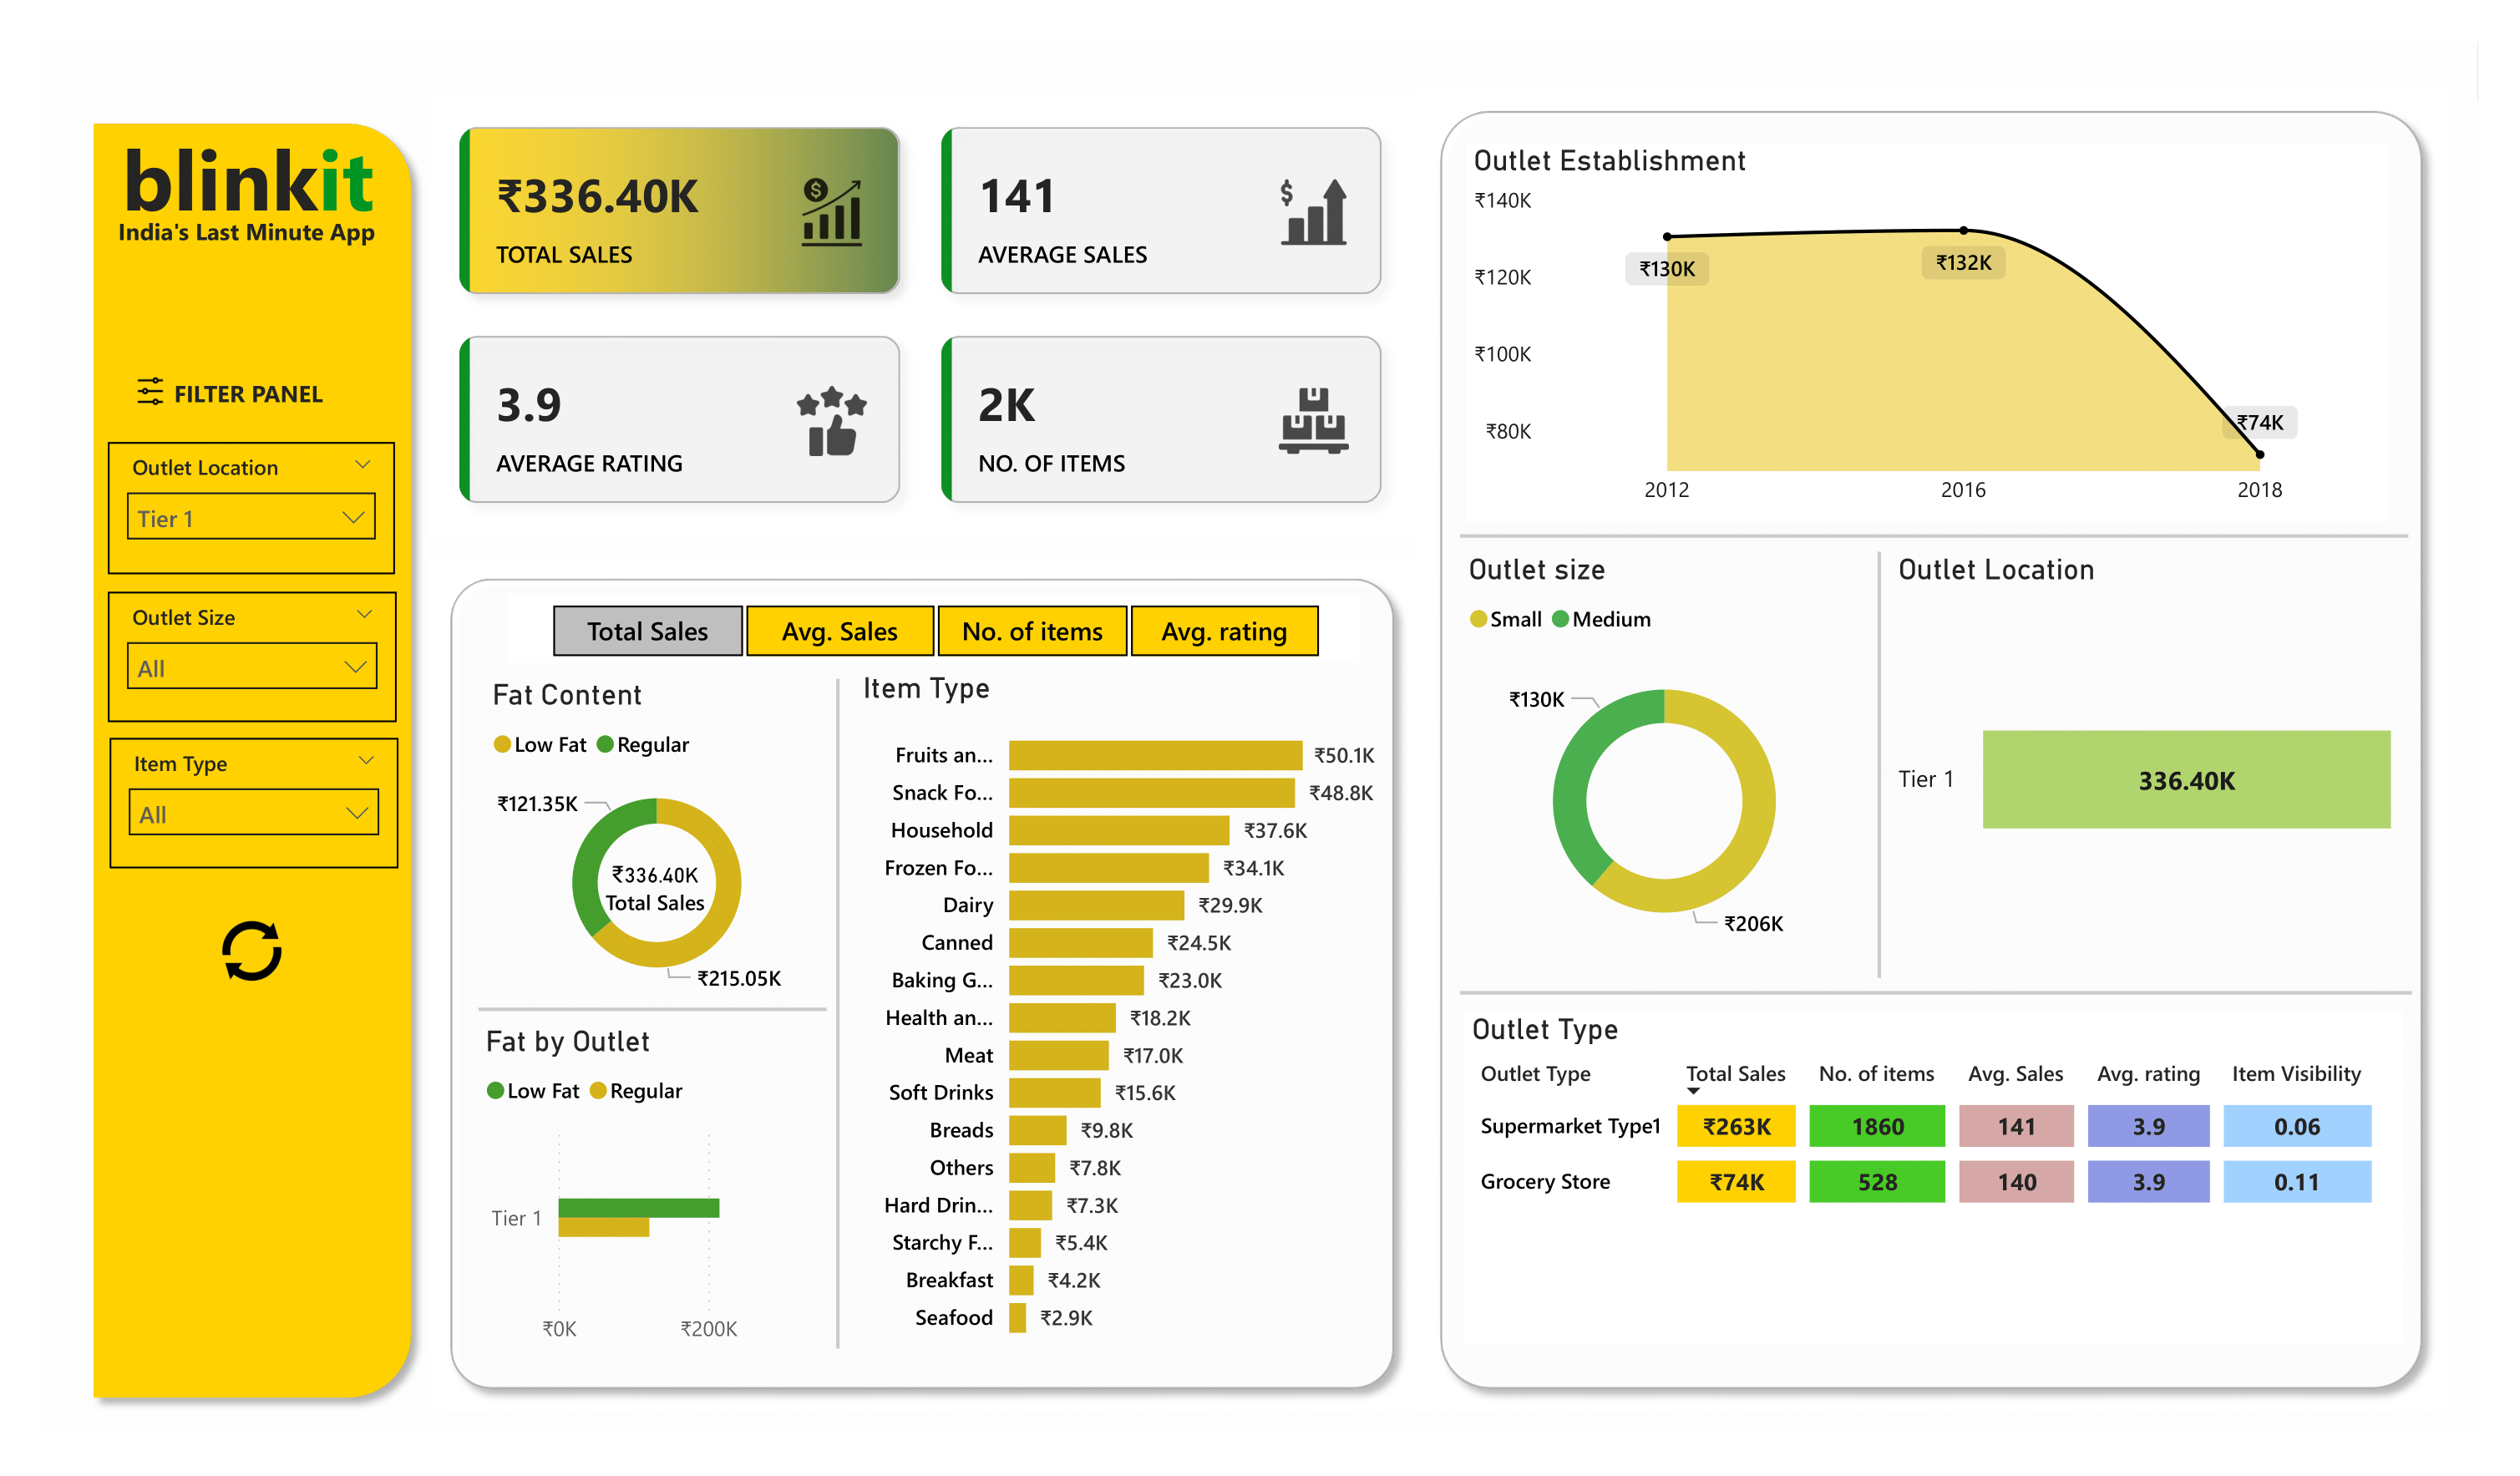

The page's visual inventory and layout, read from the dashboard file:
{"tool":"powerbi","page":{"name":"Page 1","canvas":[1400,800],"ordinal":0},"visuals":[{"type":"shape","box":[20.9,38.2,200,750],"z":0},{"type":"textbox","box":[39,95,170,28],"z":1000},{"type":"textbox","box":[40.8,40,165,75],"z":2000},{"type":"pivotTable","fields":{"Values":["BlinkIT Grocery Data.Total Sales","BlinkIT Grocery Data.No. of items","BlinkIT Grocery Data.Avg. Sales","BlinkIT Grocery Data.Avg. rating","Sum(BlinkIT Grocery Data.Item Visibility)"],"Rows":["BlinkIT Grocery Data.Outlet Type"]},"box":[817.5,497.5,545,250],"z":3000},{"type":"shape","box":[221,295,570,493],"z":4000},{"type":"donutChart","title":"Fat Content","fields":{"Y":["BlinkIT Grocery Data.Total Sales"],"Category":["BlinkIT Grocery Data.Item Fat Content"]},"box":[253.6,364.5,199.1,190],"z":5000},{"type":"slicer","fields":{"Values":["Metric.Metric"]},"box":[267.9,316.8,490.6,39.8],"z":6000},{"type":"cardVisual","fields":{"Data":["BlinkIT Grocery Data.Total Sales"]},"box":[300,455,105,55],"z":7000},{"type":"clusteredBarChart","title":"Fat by Outlet","fields":{"Category":["BlinkIT Grocery Data.Outlet Location Type"],"Y":["BlinkIT Grocery Data.Total Sales"],"Series":["BlinkIT Grocery Data.Item Fat Content"]},"box":[250,564.4,197.8,193.3],"z":8000},{"type":"shape","box":[251.1,545.6,200,20],"z":9000},{"type":"shape","box":[448,366.2,18.8,385],"z":10000},{"type":"barChart","title":"Item Type","fields":{"Y":["BlinkIT Grocery Data.Total Sales"],"Category":["BlinkIT Grocery Data.Item Type"]},"box":[467.1,361.4,304.3,394.3],"z":11000},{"type":"shape","box":[790,25.6,592.2,762.2],"z":12000},{"type":"lineChart","title":"Outlet Establishment","fields":{"Y":["BlinkIT Grocery Data.Total Sales"],"Category":["BlinkIT Grocery Data.Outlet Establishment Year"]},"box":[817.5,57.5,530,218.8],"z":13000},{"type":"shape","box":[815,278.8,545,10],"z":14000},{"type":"donutChart","title":"Outlet size","fields":{"Y":["BlinkIT Grocery Data.Total Sales"],"Category":["BlinkIT Grocery Data.Outlet Size"]},"box":[815,293.3,235,240],"z":15000},{"type":"shape","box":[1050,293.3,11.7,245],"z":16000},{"type":"funnel","title":"Outlet Location","fields":{"Y":["Sum(BlinkIT Grocery Data.Sales)"],"Category":["BlinkIT Grocery Data.Outlet Location Type"]},"box":[1061.7,293.3,298.3,241.7],"z":17000},{"type":"shape","box":[815,533.3,546.7,26.7],"z":18000},{"type":"pivotTable","title":"Outlet Type","fields":{"Rows":["BlinkIT Grocery Data.Outlet Type"],"Values":["BlinkIT Grocery Data.Total Sales","BlinkIT Grocery Data.No. of items","BlinkIT Grocery Data.Avg. Sales","BlinkIT Grocery Data.Avg. rating","Avg(BlinkIT Grocery Data.Item Visibility)"]},"box":[816.7,556.7,540,191.7],"z":19000},{"type":"cardVisual","fields":{"Data":["BlinkIT Grocery Data.Total Sales","BlinkIT Grocery Data.Avg. Sales","BlinkIT Grocery Data.Avg. rating","BlinkIT Grocery Data.No. of items"]},"box":[220.9,30,568.9,254.4],"z":20000},{"type":"slicer","fields":{"Values":["BlinkIT Grocery Data.Outlet Location Type"]},"box":[37.8,230,165.6,75.6],"z":21000},{"type":"slicer","fields":{"Values":["BlinkIT Grocery Data.Outlet Size"]},"box":[38.2,316.4,165.5,74.5],"z":22000},{"type":"slicer","fields":{"Values":["BlinkIT Grocery Data.Item Type"]},"box":[39.1,400,165.5,75.5],"z":23000},{"type":"textbox","box":[71.1,187.8,105.6,28.9],"z":24000},{"type":"image","box":[46.2,186.9,33.1,29.4],"z":25000},{"type":"actionButton","box":[101.1,502.2,40,40],"z":25001}]}

Visuals, with their boxes in screenshot pixels (x1, y1, x2, y2):
shape: box=[79, 109, 426, 1413]
textbox: box=[109, 207, 405, 256]
textbox: box=[113, 111, 400, 242]
pivotTable - BlinkIT Grocery Data.Total Sales x BlinkIT Grocery Data.No. of items: box=[1464, 908, 2413, 1343]
shape: box=[426, 555, 1418, 1413]
"Fat Content" donutChart: box=[483, 677, 829, 1007]
slicer - Metric.Metric: box=[508, 593, 1361, 662]
cardVisual - BlinkIT Grocery Data.Total Sales: box=[564, 834, 747, 930]
"Fat by Outlet" clusteredBarChart: box=[477, 1024, 821, 1361]
shape: box=[479, 992, 827, 1027]
shape: box=[821, 679, 854, 1349]
"Item Type" barChart: box=[854, 671, 1384, 1357]
shape: box=[1417, 86, 2447, 1413]
"Outlet Establishment" lineChart: box=[1464, 142, 2387, 523]
shape: box=[1460, 527, 2409, 545]
"Outlet size" donutChart: box=[1460, 552, 1869, 970]
shape: box=[1869, 552, 1889, 979]
"Outlet Location" funnel: box=[1889, 552, 2409, 973]
shape: box=[1460, 970, 2411, 1017]
"Outlet Type" pivotTable: box=[1463, 1011, 2403, 1344]
cardVisual - BlinkIT Grocery Data.Total Sales x BlinkIT Grocery Data.Avg. Sales: box=[426, 94, 1417, 537]
slicer - BlinkIT Grocery Data.Outlet Location Type: box=[108, 442, 396, 574]
slicer - BlinkIT Grocery Data.Outlet Size: box=[109, 592, 396, 723]
slicer - BlinkIT Grocery Data.Item Type: box=[109, 738, 398, 870]
textbox: box=[165, 368, 349, 419]
image: box=[122, 367, 180, 418]
actionButton: box=[218, 916, 287, 986]
